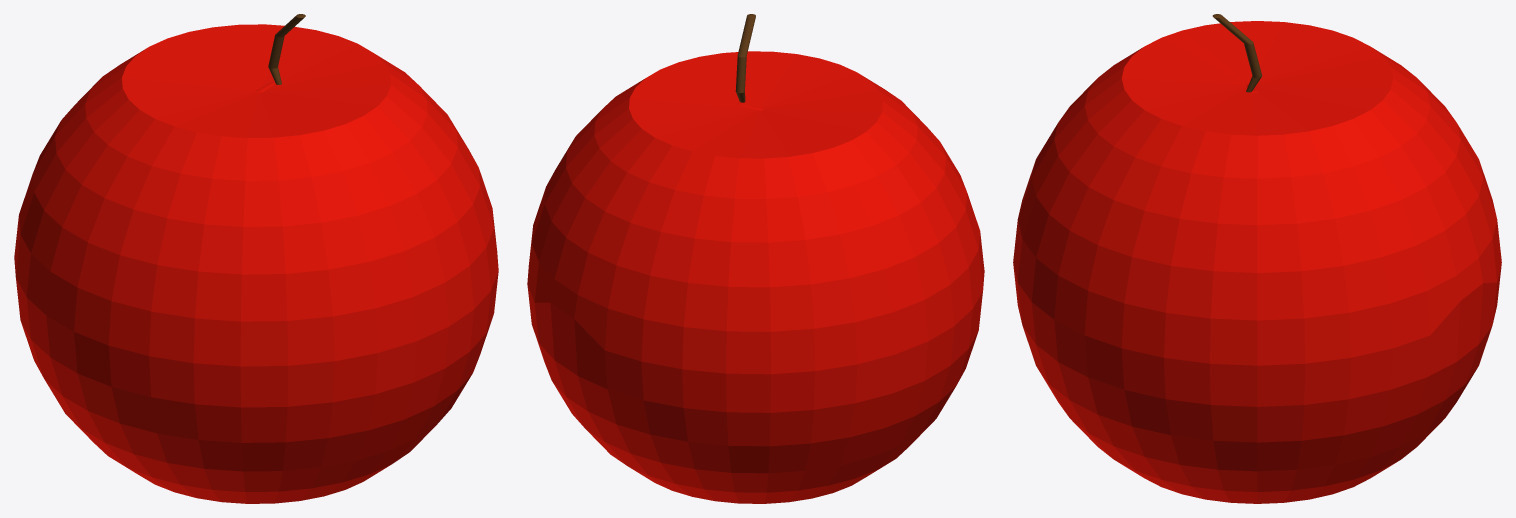
File: Apple.fbx
The picture shows the model from 3 angles, left to right: view 1: azimuth 30°, elevation 25°; view 2: azimuth 150°, elevation 25°; view 3: azimuth 270°, elevation 25°; orthographic projection. The views are drawn at different scales.
Parts seen in each view (by area): view 1: Sphere; view 2: Sphere; view 3: Sphere.
Boxes of the visible parts, bbox=[...] form: Sphere: bbox=[14, 14, 498, 503]; Sphere: bbox=[527, 14, 984, 503]; Sphere: bbox=[1013, 14, 1501, 503].
Size of the model in its own units: 200 by 200 by 200.
